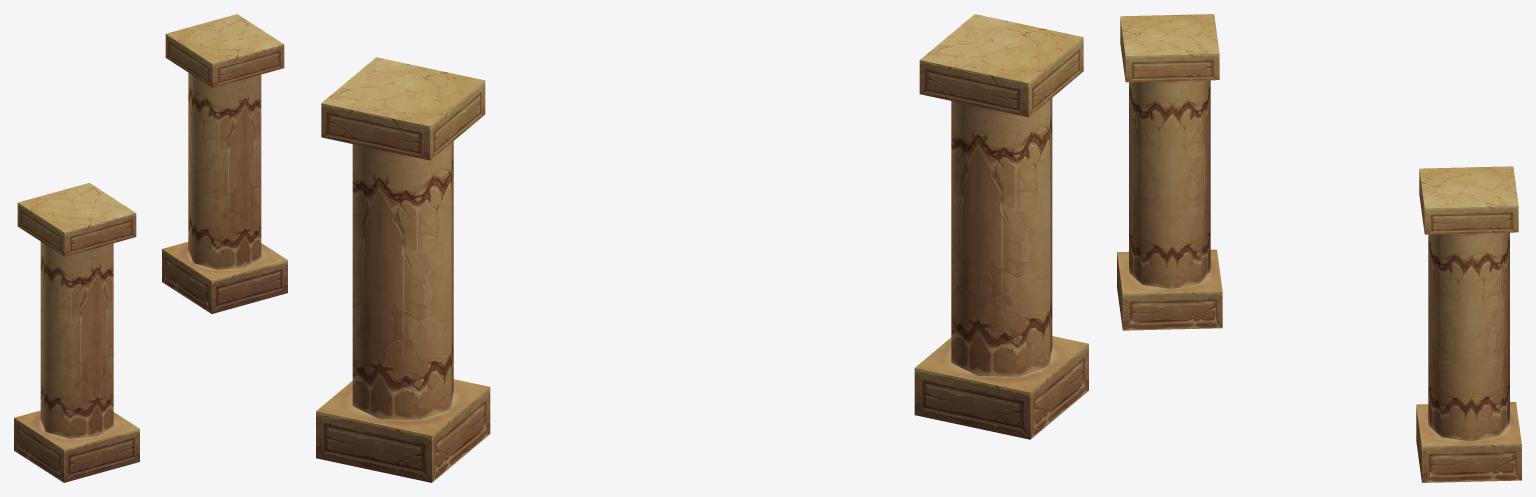
The model's file is Area_06_26.fbx.
3 views of the same model, side by side, from view 1: azimuth 30°, elevation 25°; view 2: azimuth 150°, elevation 25°; view 3: azimuth 270°, elevation 25° (orthographic). The views are drawn at different scales.
Visible parts, largest first — view 1: Area_06_26; view 2: Area_06_26; view 3: Area_06_26.
Boxes of the visible parts, box(x1,y1,x2,y2) form: Area_06_26: box(14, 14, 287, 482); Area_06_26: box(316, 14, 1088, 482); Area_06_26: box(1117, 14, 1521, 482).
Size of the model in its own units: 1330 by 861 by 1155.
